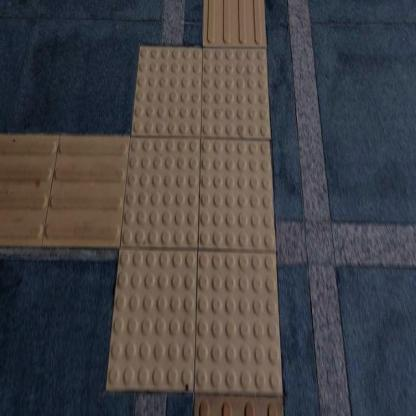podotacti: (94, 21, 332, 415), (0, 129, 118, 250), (203, 0, 286, 49), (192, 392, 284, 415)
